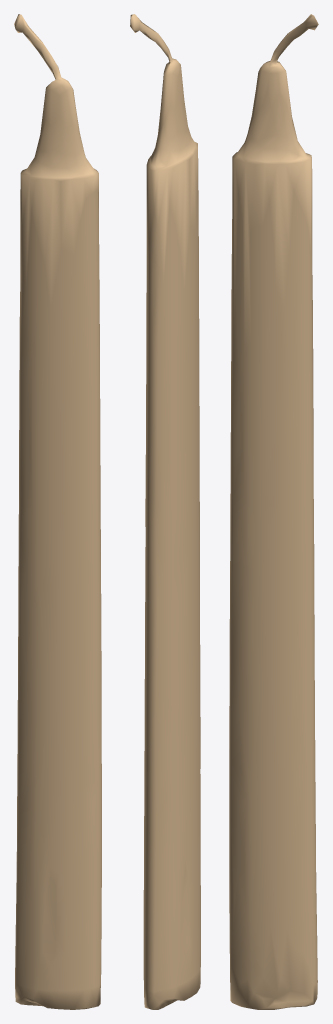
File: Candles001_Candle01_Geo_LOD0.001.gltf
The picture shows the model from 3 angles, left to right: view 1: azimuth 90°, elevation 25°; view 2: azimuth 150°, elevation 25°; view 3: azimuth 270°, elevation 25°; orthographic projection.
Parts seen in each view (by area): view 1: Candles001_Candle01_Geo_LOD0.001; view 2: Candles001_Candle01_Geo_LOD0.001; view 3: Candles001_Candle01_Geo_LOD0.001.
Boxes of the visible parts, <box> form: Candles001_Candle01_Geo_LOD0.001: <box>14,14,101,1009</box>; Candles001_Candle01_Geo_LOD0.001: <box>130,14,200,1009</box>; Candles001_Candle01_Geo_LOD0.001: <box>229,14,318,1009</box>.
Size of the model in its own units: 0.0211 by 0.5041 by 0.0409.
